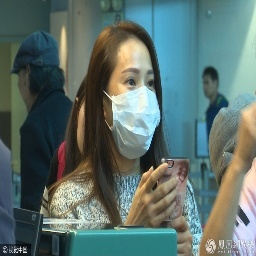correctlyWear: (101, 59, 162, 160)
noWear: (16, 62, 34, 114), (202, 71, 218, 98)
